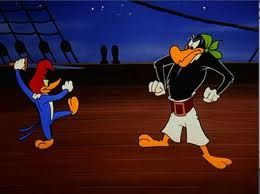picapau: (10, 50, 83, 157)
urubu: (136, 27, 236, 172)
